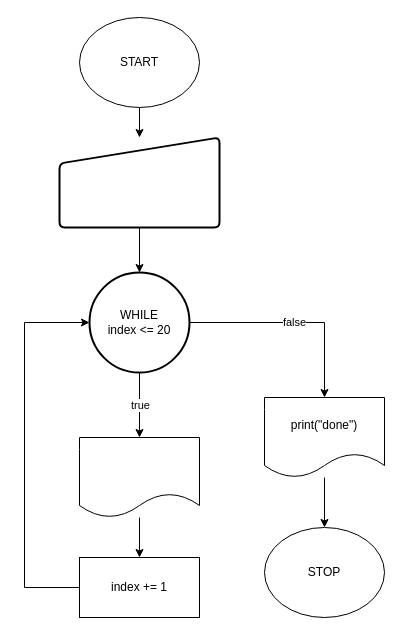
Image size: 402x635. Some labels were removed from this diagram. The shapes that lost their labels are listed below. From the top down, each one's centre as x and y in pixels, then its label:
At point 139,182: "index=10".
At point 139,477: "print(index)".
